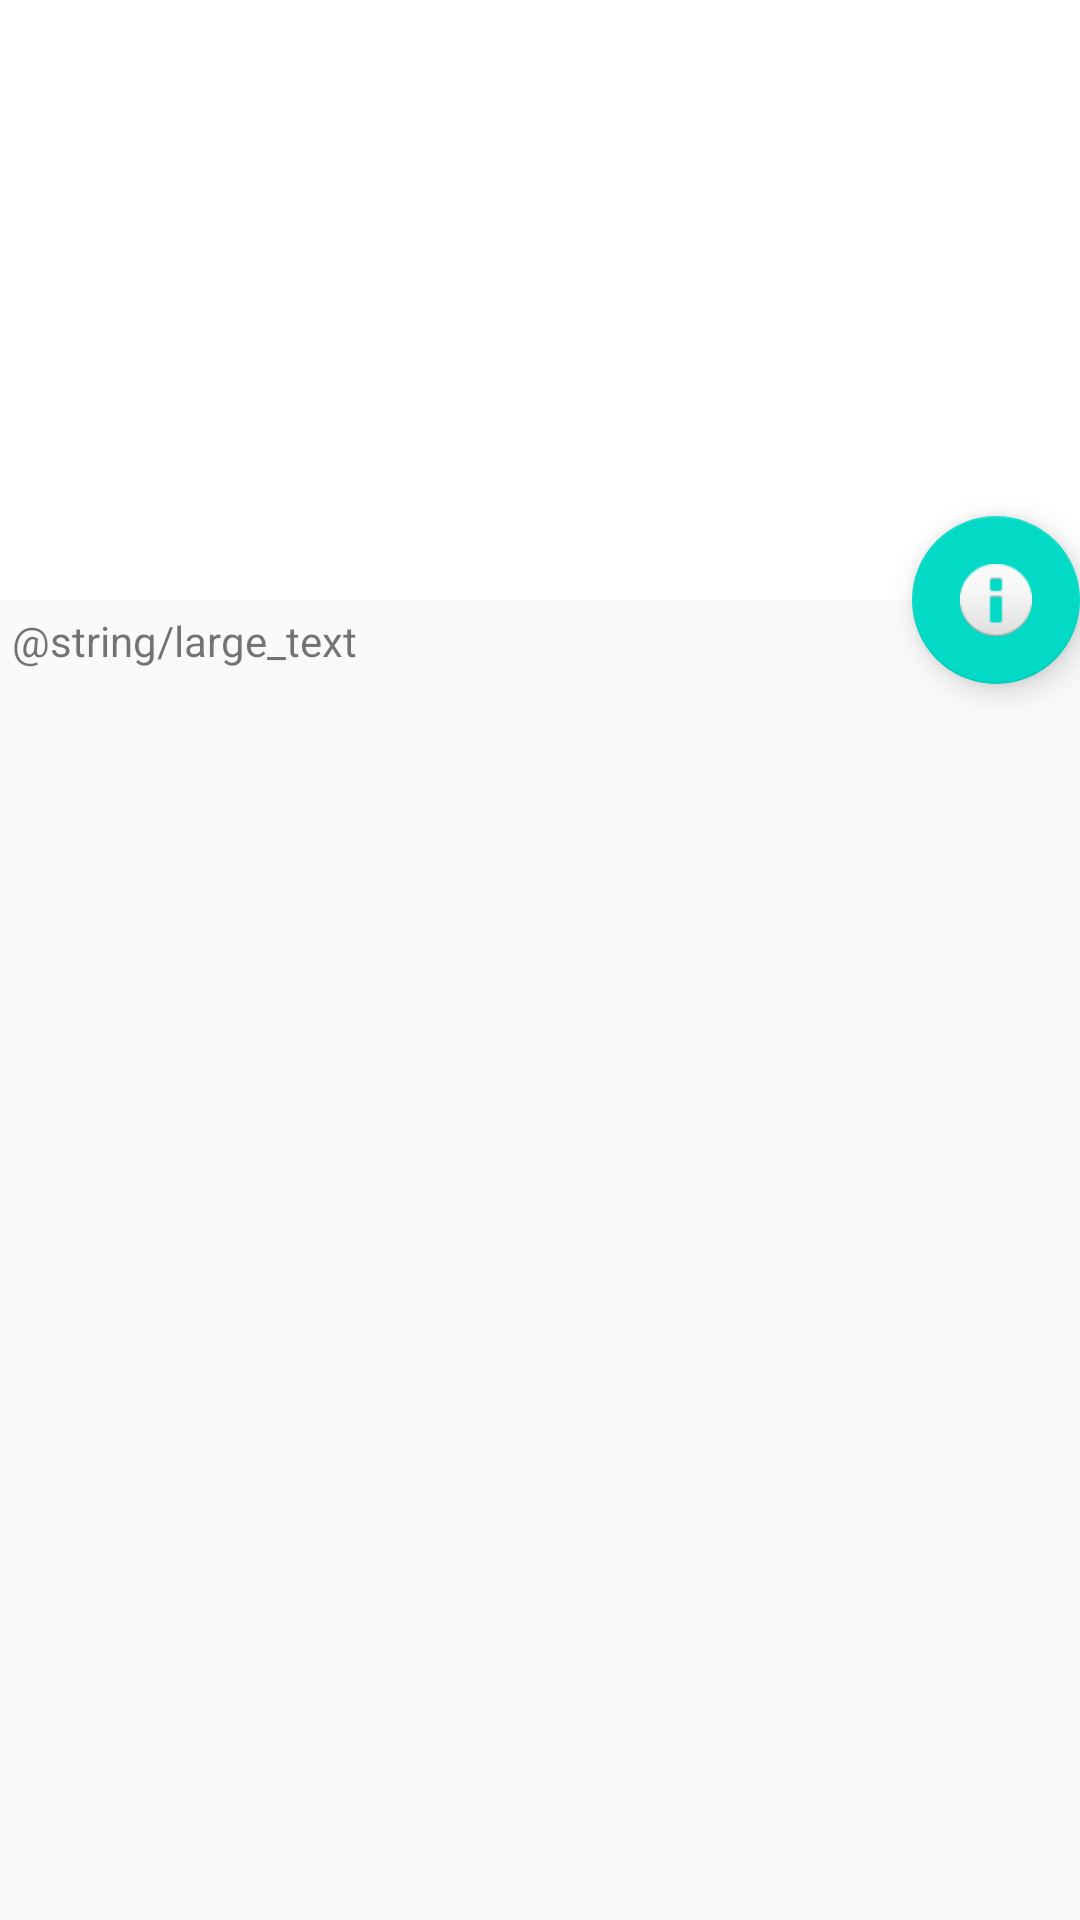

Point at icon controls on the screen. Image size 1080px x 1920px, points as [x,y].
info: [996,600]
